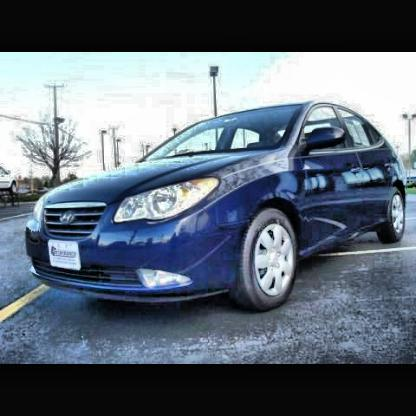Hyundai Elantra Sedan 2007: (29, 104, 407, 311)
